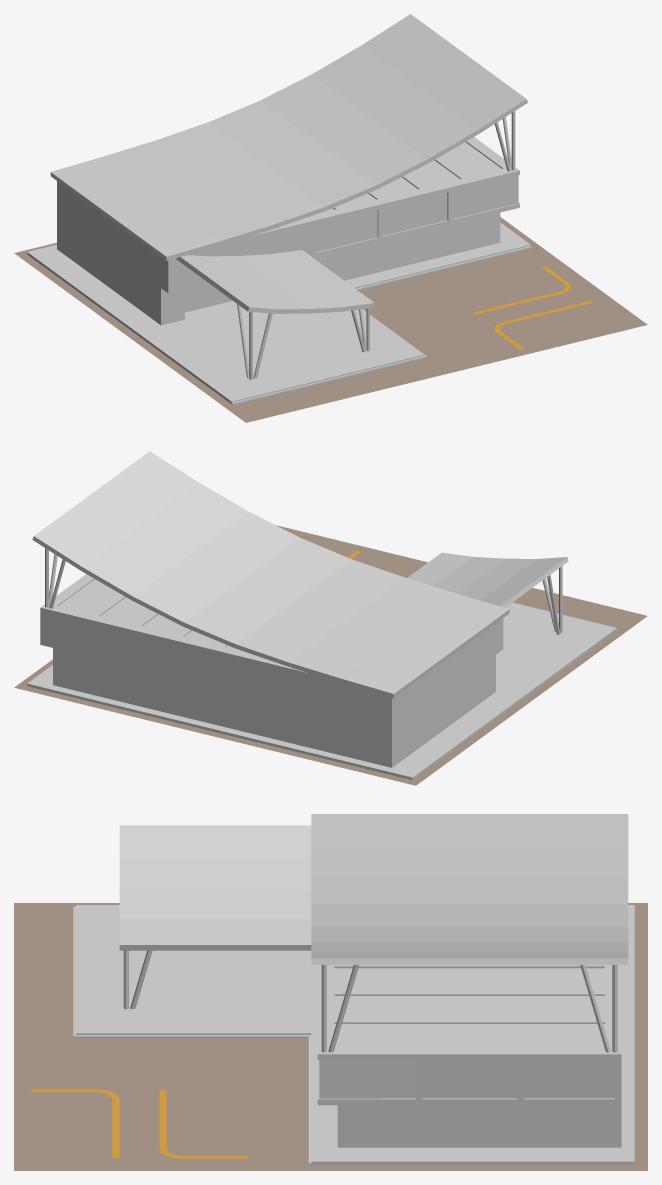
Rendered from tile_poi_expo_6x6_b.fbx.
The picture shows the model from 3 angles, top to bottom: view 1: azimuth 30°, elevation 25°; view 2: azimuth 150°, elevation 25°; view 3: azimuth 270°, elevation 25°; orthographic projection. The views are drawn at different scales.
Visible parts, largest first — view 1: tile_poi_expo_6x6_b; view 2: tile_poi_expo_6x6_b; view 3: tile_poi_expo_6x6_b.
Boxes of the visible parts, bbox=[...] form: tile_poi_expo_6x6_b: bbox=[14, 14, 647, 422]; tile_poi_expo_6x6_b: bbox=[14, 451, 647, 785]; tile_poi_expo_6x6_b: bbox=[14, 814, 647, 1170].
Bounding box in the file's own units: 9600 × 3467 × 9600.
